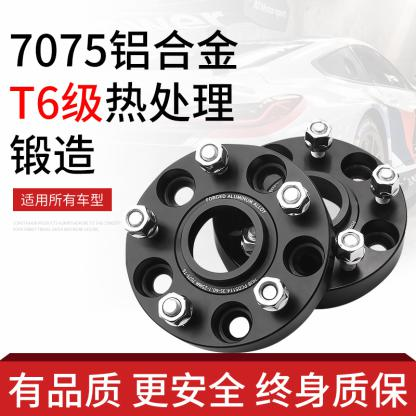FOD: (121, 141, 332, 354), (208, 132, 412, 314)
